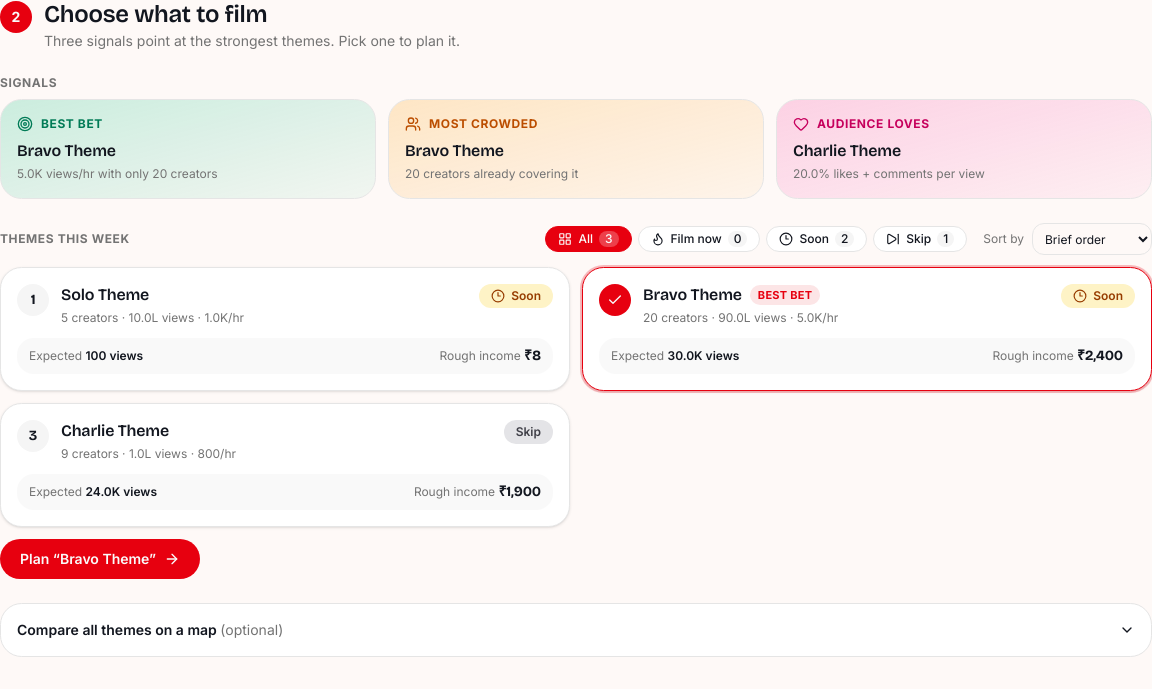
Scenario: the Examples tab › one theme with no examples left does not affect the others
(page scrolled)
Click the button "Solo Theme": [33, 300] box [0,267,570,391]
(page scrolled)
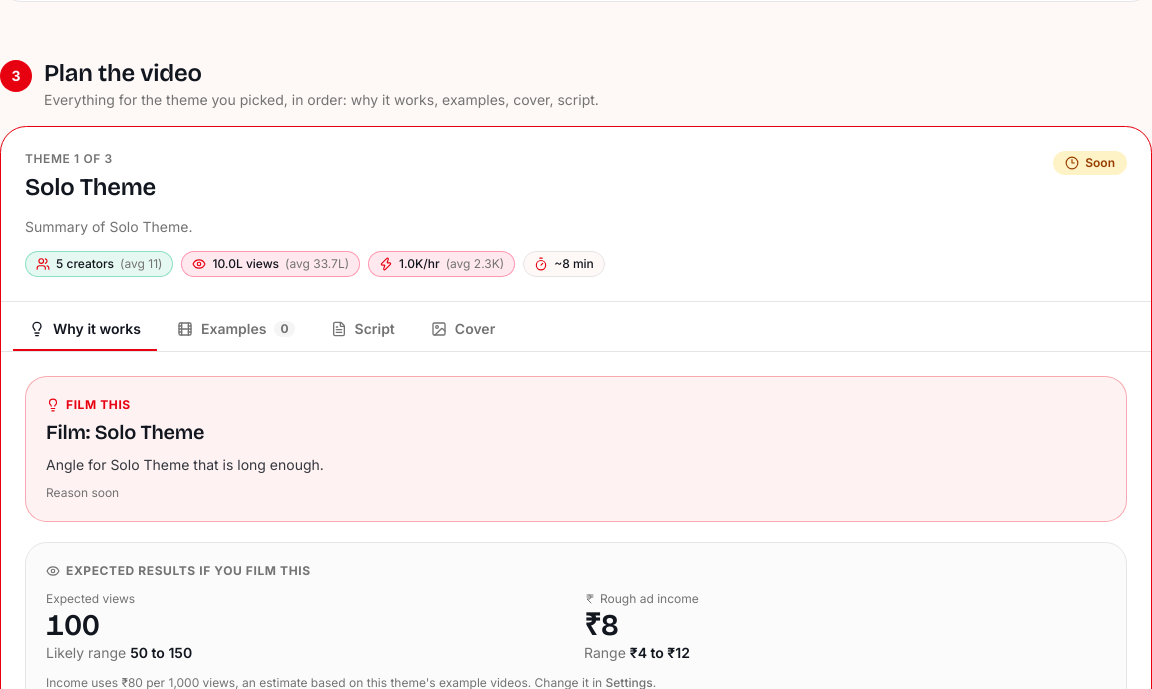
Click the tab "Examples 0": [236, 330] box [161,309,310,351]
(page scrolled)
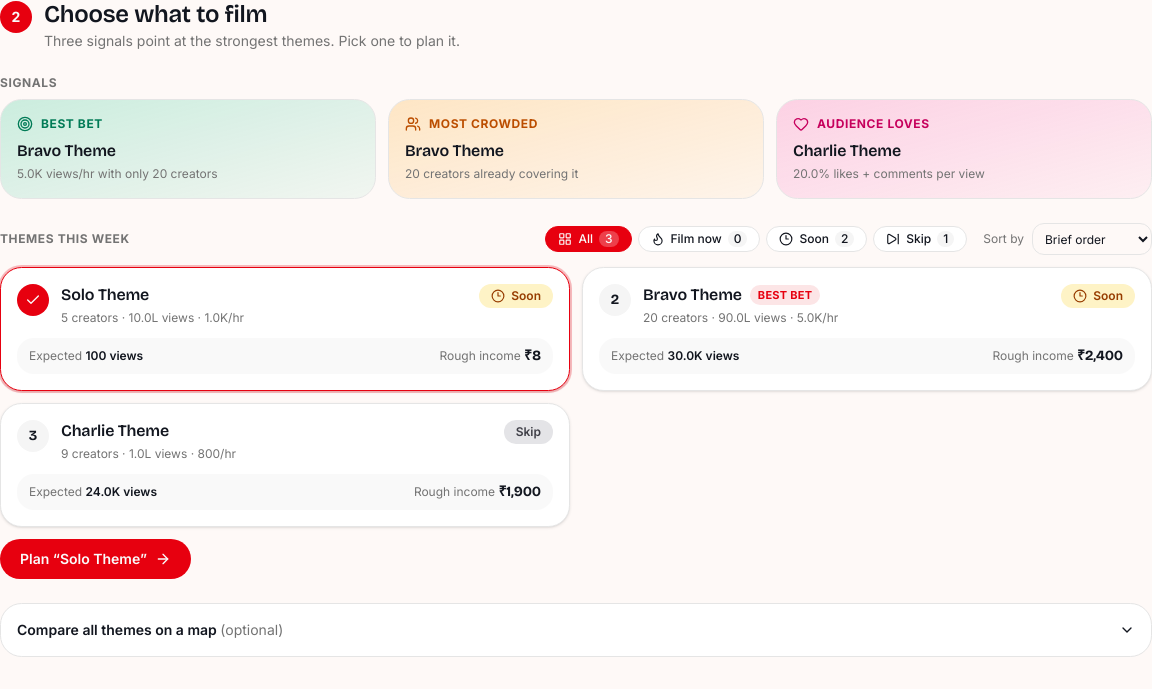
Click the button "Bravo Theme": [615, 300] box [582,267,1151,391]
(page scrolled)
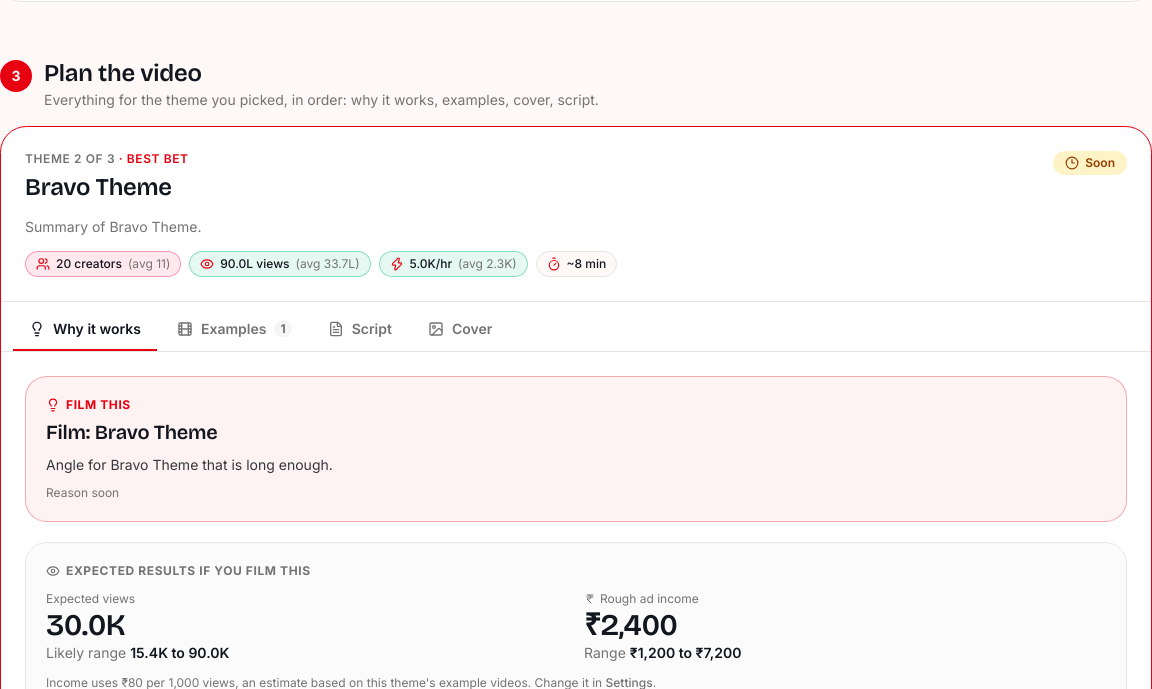
Click the tab "Examples 1": [234, 330] box [161,309,308,351]
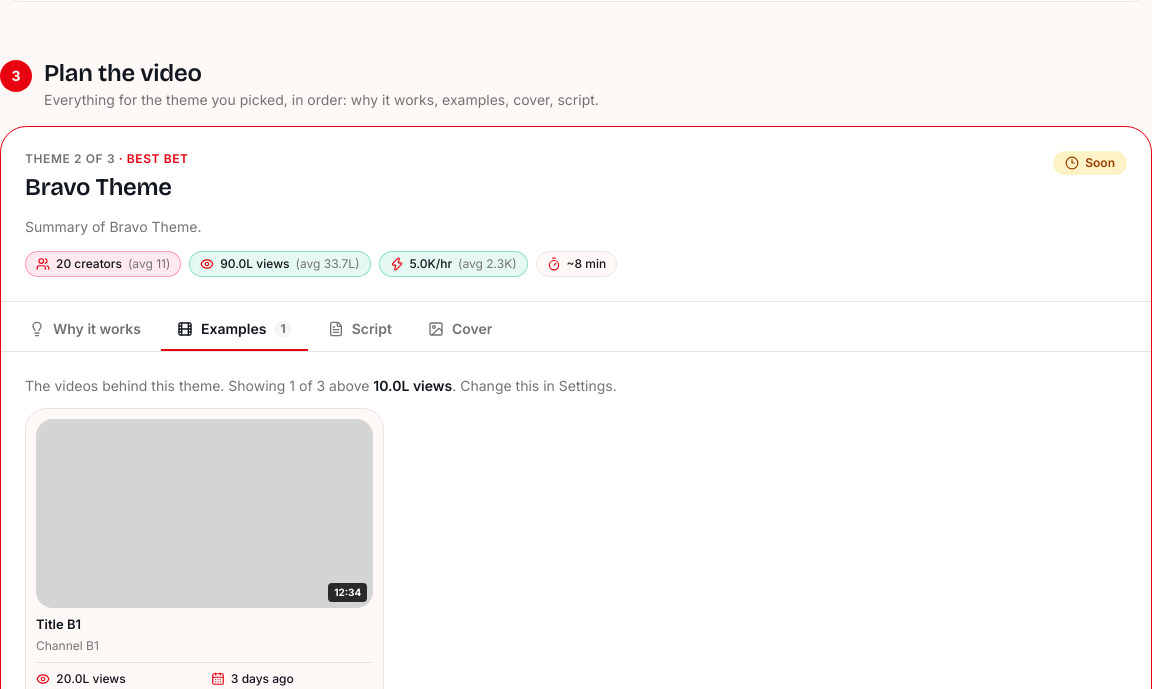
Result: the text "Title B1" is shown at [36,616,81,632]
